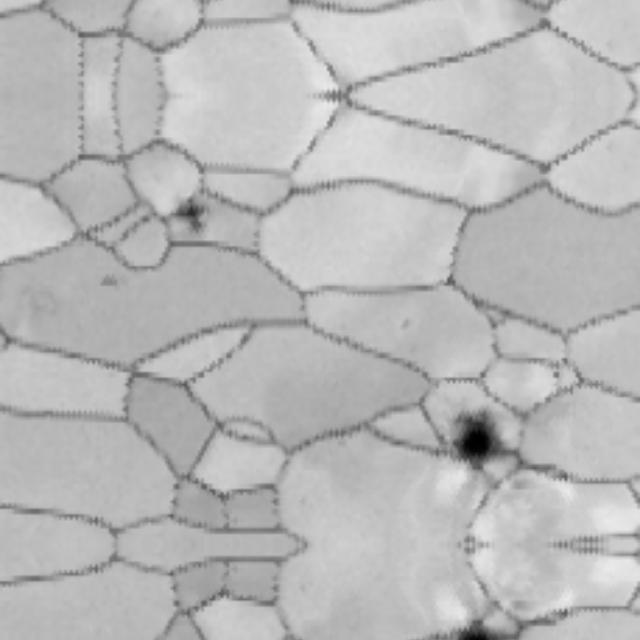good_void: (443, 398, 518, 480), (446, 610, 518, 640), (167, 186, 207, 233), (100, 271, 119, 289), (400, 316, 412, 332), (551, 368, 564, 382)
